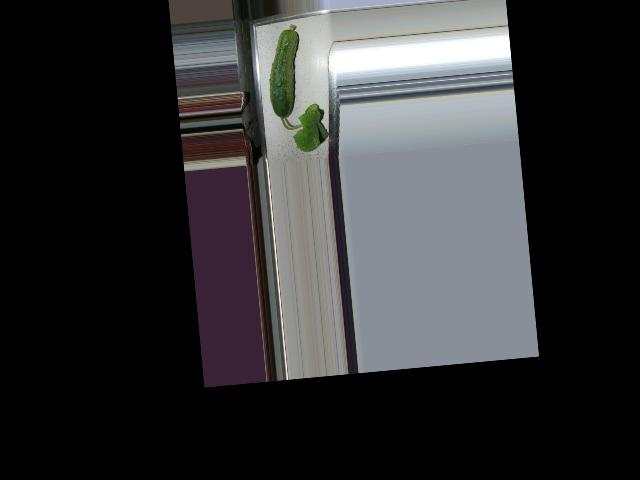cucumber: (263, 23, 305, 119)
